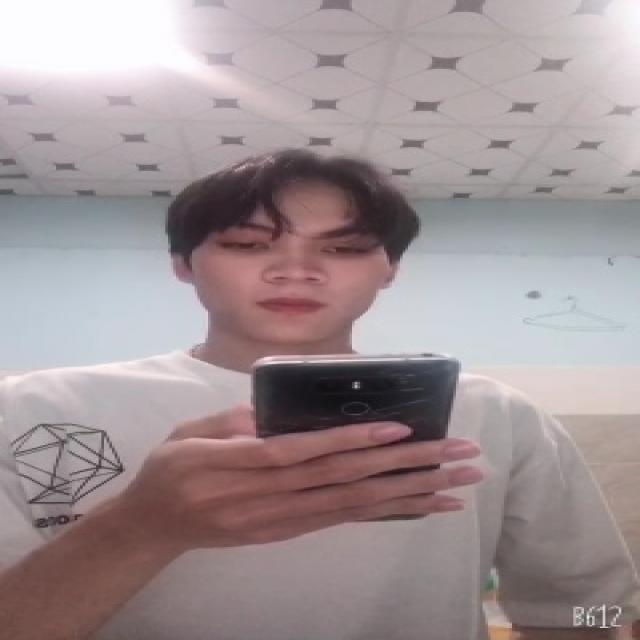Phone: (248, 352, 467, 522)
